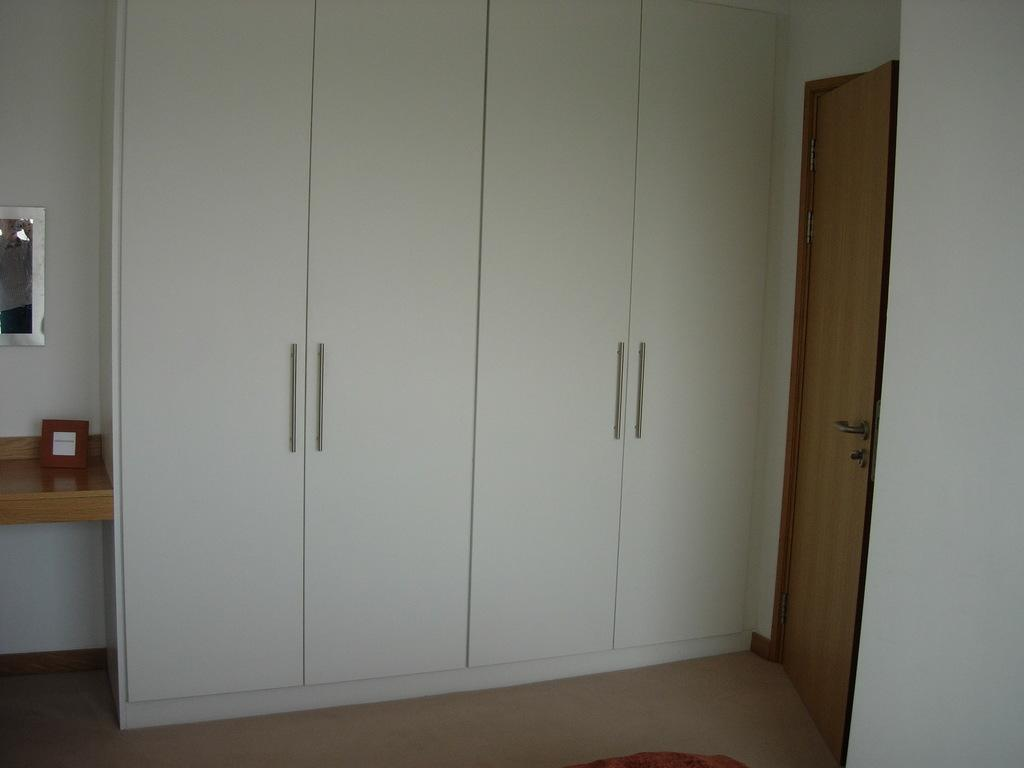door: (792, 80, 874, 702)
handle: (279, 335, 306, 461), (629, 335, 657, 444), (309, 335, 333, 457), (609, 335, 627, 445), (830, 415, 874, 441)
